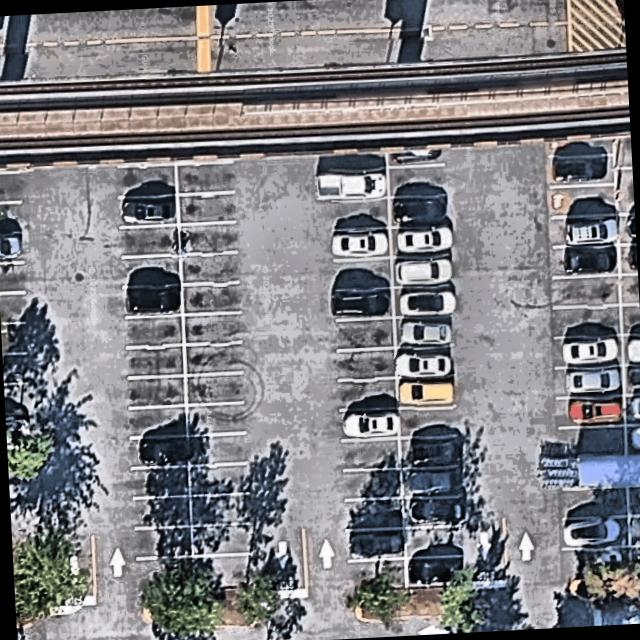car: (310, 169, 388, 204), (559, 515, 621, 549), (406, 555, 465, 588), (329, 289, 391, 320), (138, 434, 195, 467), (550, 152, 610, 183), (390, 192, 446, 225), (339, 409, 398, 440), (346, 529, 406, 559), (562, 216, 620, 247), (392, 258, 455, 286), (560, 336, 620, 365), (329, 231, 388, 260), (121, 199, 179, 228), (128, 285, 183, 315), (407, 497, 464, 525), (559, 250, 618, 277), (394, 226, 453, 253), (398, 290, 457, 317), (405, 439, 459, 468), (393, 351, 450, 378), (399, 379, 454, 406), (565, 368, 620, 394), (394, 323, 454, 345), (566, 401, 624, 423), (405, 470, 455, 495), (580, 552, 624, 576), (390, 147, 441, 166), (5, 418, 35, 450), (0, 232, 25, 261), (626, 336, 640, 363), (624, 212, 636, 241), (628, 367, 640, 390), (629, 397, 640, 421), (632, 425, 640, 451)
lot_boundary: (0, 132, 640, 609)
objects: (535, 452, 640, 492)
stall: (551, 304, 621, 338), (551, 275, 620, 309), (553, 335, 622, 369), (553, 365, 622, 399), (554, 395, 623, 429), (556, 425, 625, 459), (550, 244, 619, 278), (547, 215, 616, 249), (545, 184, 614, 218), (543, 154, 612, 188), (561, 549, 630, 583), (560, 517, 629, 551), (558, 487, 627, 521), (403, 495, 461, 529), (403, 525, 461, 559), (404, 555, 462, 589), (347, 558, 405, 592), (191, 524, 249, 558), (191, 555, 249, 589), (135, 559, 193, 593), (566, 332, 625, 365), (397, 406, 455, 439), (345, 499, 403, 532), (177, 192, 235, 225), (125, 315, 183, 348), (185, 372, 243, 405), (133, 526, 191, 559), (396, 375, 453, 408), (399, 436, 456, 469), (400, 467, 457, 500), (389, 195, 446, 228), (390, 225, 447, 258), (390, 255, 447, 288), (393, 285, 450, 318), (396, 345, 453, 378), (339, 348, 396, 381), (337, 318, 394, 351), (336, 288, 393, 321), (333, 228, 390, 261), (330, 168, 387, 201), (347, 528, 404, 561), (342, 438, 399, 471), (340, 408, 397, 441), (118, 165, 175, 198), (176, 162, 233, 195), (181, 251, 238, 284), (122, 255, 179, 288), (121, 226, 178, 259), (120, 195, 177, 228), (127, 345, 184, 378), (185, 342, 242, 375), (125, 284, 182, 317), (183, 312, 240, 345), (130, 436, 187, 469), (188, 434, 245, 467), (128, 406, 185, 439), (187, 402, 244, 435), (190, 493, 247, 526), (133, 496, 190, 529), (393, 316, 451, 348), (331, 198, 389, 230), (343, 468, 401, 500), (179, 222, 237, 254), (181, 282, 239, 314), (387, 166, 444, 198), (339, 378, 396, 410), (334, 258, 391, 290), (128, 376, 185, 408), (132, 466, 189, 498), (188, 464, 245, 496), (540, 135, 611, 159), (386, 145, 442, 168), (332, 149, 384, 172), (4, 412, 32, 454), (614, 166, 634, 215), (6, 454, 34, 486), (10, 514, 38, 546), (8, 484, 36, 515), (0, 323, 27, 354), (13, 575, 40, 605), (11, 545, 38, 575), (3, 385, 30, 415), (2, 355, 29, 385), (0, 294, 26, 325), (612, 132, 632, 169), (0, 262, 24, 292), (0, 233, 22, 263), (619, 275, 640, 306), (616, 216, 637, 247), (0, 202, 21, 233), (617, 243, 638, 274), (620, 304, 640, 335), (0, 173, 19, 204), (622, 334, 640, 365), (623, 364, 640, 395), (625, 394, 640, 425), (625, 425, 640, 454), (626, 487, 640, 516), (628, 516, 640, 547), (630, 548, 640, 578)
